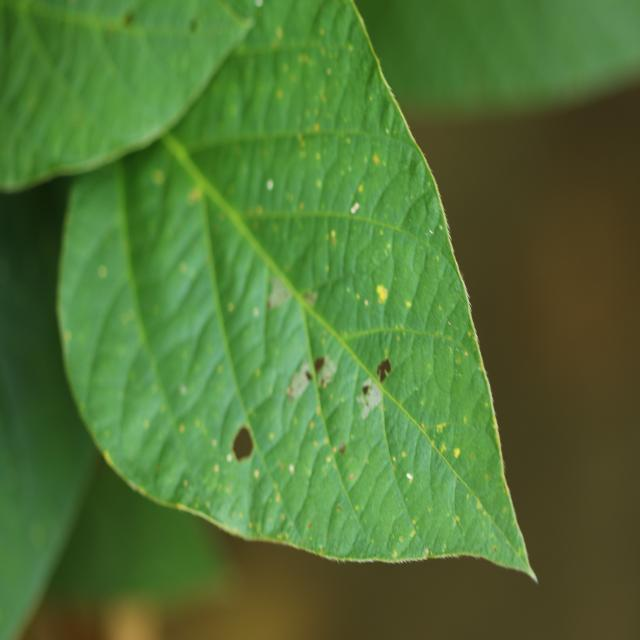Soybean: (0, 0, 536, 593)
downey_mildew: (369, 314, 529, 570), (1, 184, 86, 478), (0, 5, 134, 174), (228, 233, 315, 462), (158, 131, 269, 301), (322, 239, 431, 355), (340, 403, 415, 554), (141, 212, 213, 365), (113, 309, 178, 476), (62, 163, 126, 324), (190, 137, 299, 210), (82, 311, 142, 443), (312, 135, 381, 243), (128, 146, 188, 267), (13, 3, 100, 76), (365, 167, 431, 252), (243, 206, 429, 236), (128, 1, 239, 51), (305, 2, 369, 73), (217, 370, 259, 468), (201, 447, 248, 520), (355, 58, 394, 140)
